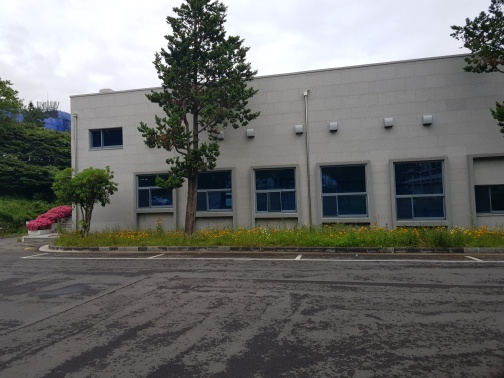College of Social Sciences: (55, 74, 488, 263)
